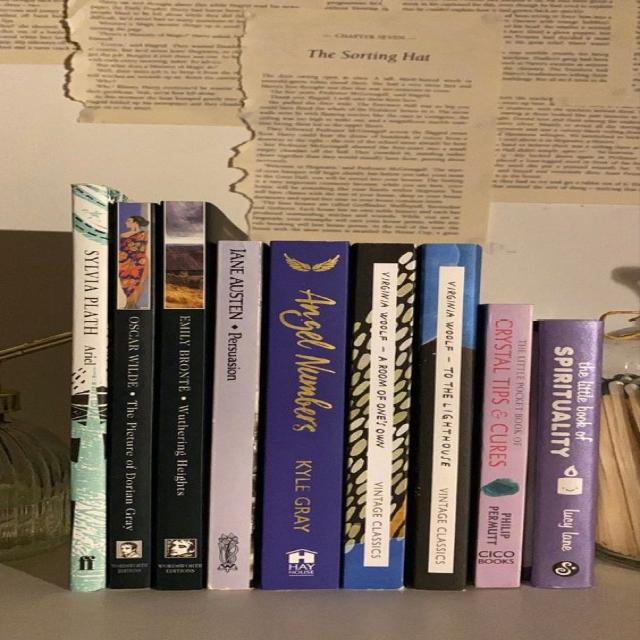book: (151, 201, 239, 590), (255, 241, 347, 590), (403, 243, 480, 589), (340, 243, 415, 589), (70, 184, 123, 591), (522, 319, 601, 588), (106, 201, 155, 589), (207, 241, 261, 589), (469, 304, 532, 588)
